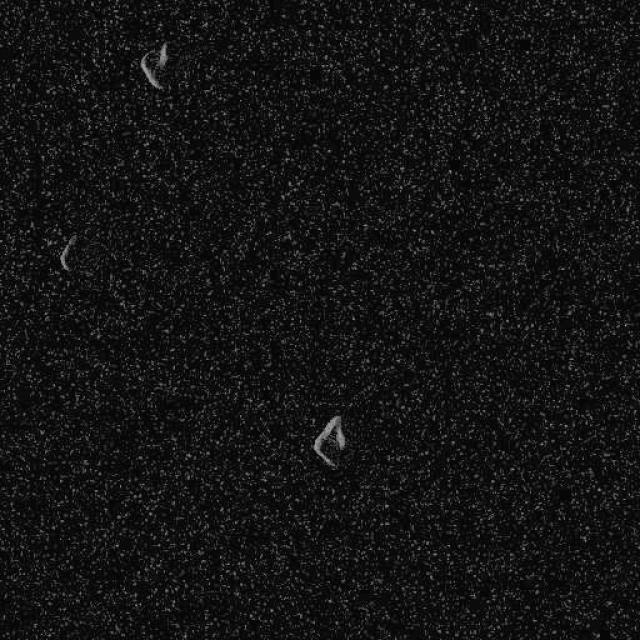D2: (312, 414, 346, 468), (139, 41, 169, 90), (58, 231, 78, 271)
